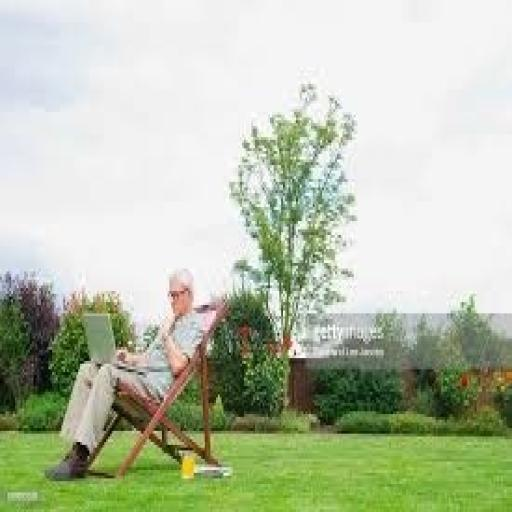using_laptop: (80, 311, 140, 372)
